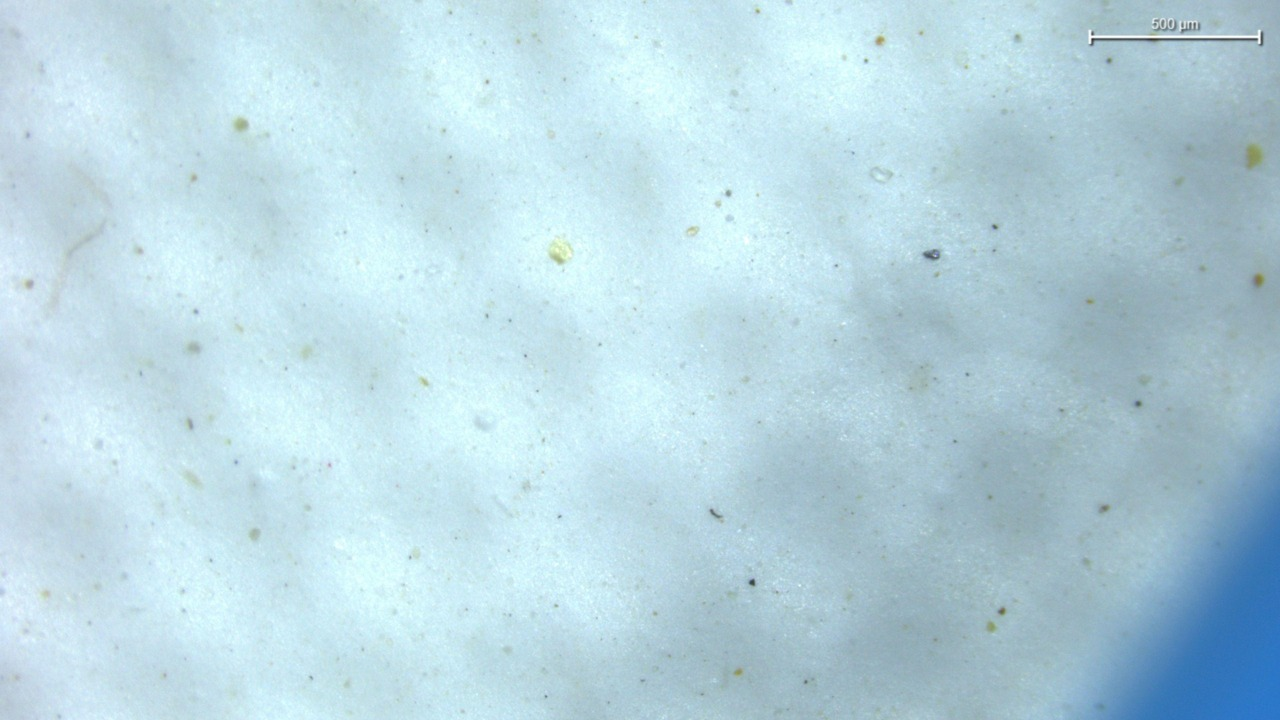microplastic_fragment: (549, 237, 572, 264)
